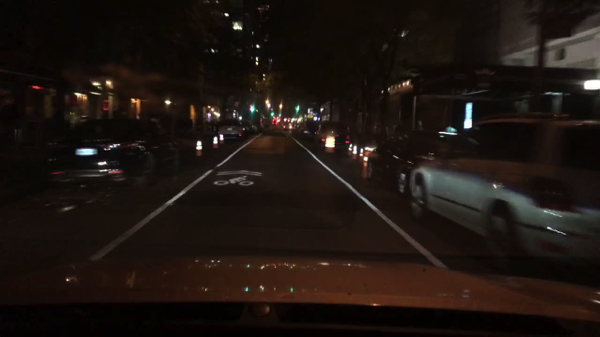car: (408, 118, 598, 263), (42, 115, 157, 189), (361, 124, 452, 190), (0, 117, 54, 180), (347, 123, 395, 159), (144, 121, 174, 164), (314, 122, 350, 152), (170, 120, 196, 161), (186, 121, 212, 154), (218, 118, 244, 139), (201, 122, 220, 149), (300, 120, 318, 137), (241, 120, 253, 133), (250, 121, 260, 133), (282, 122, 293, 132), (294, 123, 301, 130), (272, 118, 278, 125), (276, 118, 281, 123)
person: (260, 121, 266, 131)
traffic light: (295, 105, 300, 114), (251, 106, 255, 113), (271, 111, 273, 117), (279, 112, 281, 118)
traffic sign: (308, 108, 313, 114), (308, 114, 313, 120)
